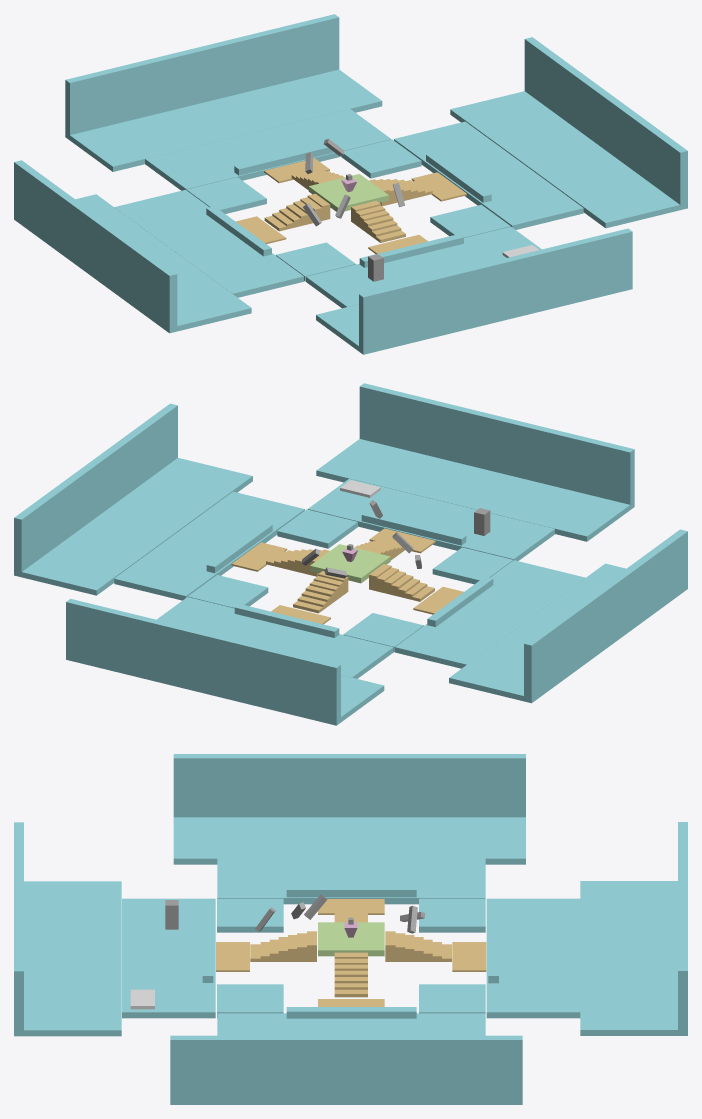
The picture shows the model from 3 angles, top to bottom: view 1: azimuth 30°, elevation 25°; view 2: azimuth 150°, elevation 25°; view 3: azimuth 270°, elevation 25°; orthographic projection. The views are drawn at different scales.
Visible parts, largest first — view 1: pCube19, pCube20, pCube22, pCube21, pCube17, pCube15, pCube18, pCube16, pCube3, pCube4, pCube2, pCube1 (+12 smaller); view 2: pCube22, pCube20, pCube19, pCube21, pCube17, pCube15, pCube16, pCube18, pCube2, pCube1, pCube3, pCube4 (+12 smaller); view 3: pCube21, pCube20, pCube22, pCube19, pCube18, pCube15, pCube16, pCube17, pCube4, pCube1, pCube9, pCube2 (+12 smaller).
Part boxes in pixels (x1,y1,x2,y2): pCube19: (65,14,382,171); pCube20: (450,37,687,228); pCube22: (316,228,632,354); pCube21: (14,160,251,333); pCube17: (394,121,583,229); pCube15: (114,190,303,297); pCube18: (145,109,391,190); pCube16: (306,227,541,308); pCube3: (341,139,421,178); pCube4: (186,177,266,213); pCube2: (430,204,510,237); pCube1: (275,242,355,281); pCube22: (316,383,634,541); pCube20: (14,403,252,595); pCube19: (66,598,384,725); pCube21: (449,529,687,703); pCube17: (114,491,304,600); pCube15: (395,560,585,668); pCube16: (307,478,554,560); pCube18: (157,597,393,678); pCube2: (277,509,357,548); pCube1: (432,547,513,584); pCube3: (187,575,268,608); pCube4: (343,613,423,652); pCube21: (173,754,525,864); pCube20: (170,1035,522,1104); pCube22: (14,822,121,1036); pCube19: (580,822,687,1035); pCube18: (486,898,580,1018); pCube15: (217,858,485,904); pCube16: (122,898,215,1018); pCube17: (217,1013,485,1035); pCube4: (419,898,485,932); pCube1: (217,898,283,932); pCube9: (318,922,384,956); pCube2: (217,984,283,1017).
Size of the model in its own units: 102 by 10.78 by 101.
